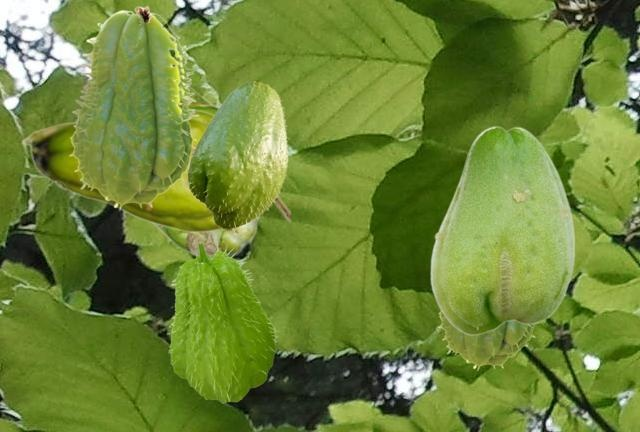sayote: (429, 125, 574, 334), (68, 5, 198, 210), (21, 109, 221, 232), (152, 80, 289, 257), (166, 240, 278, 402), (184, 81, 288, 230), (437, 312, 536, 370)
